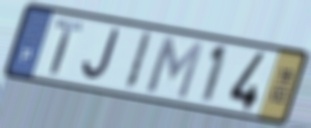1: (199, 44, 231, 105)
4: (225, 49, 267, 113)
I: (121, 29, 155, 93)
J: (80, 27, 122, 84)
M: (144, 33, 206, 102)
T: (48, 18, 85, 78)
